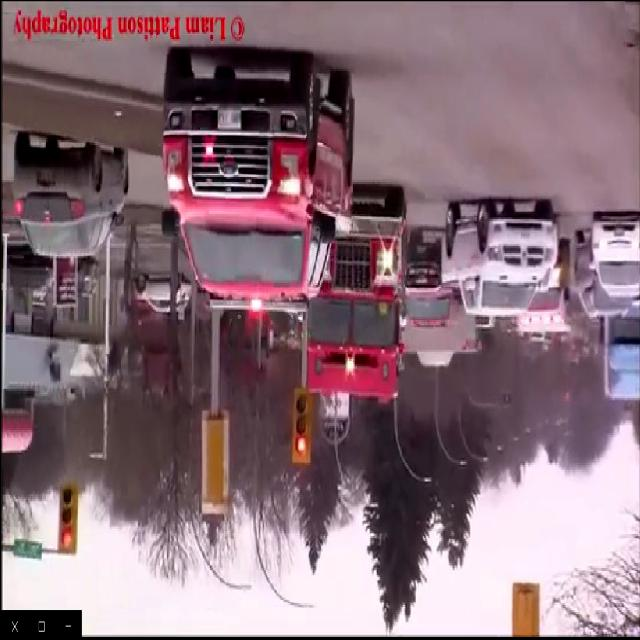emergency: (159, 40, 352, 318), (302, 180, 408, 398)
